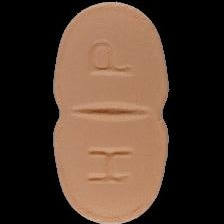23155-246: (0, 0, 224, 224)
